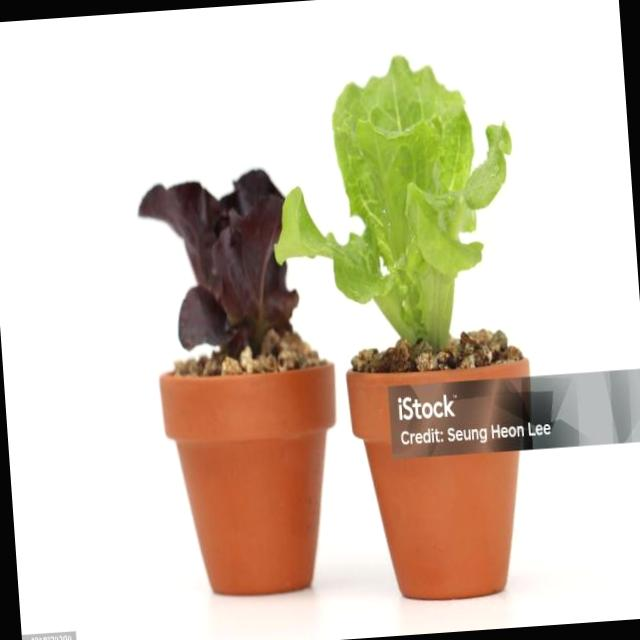Lettuce-Not-Ready-to-Harvest: (272, 55, 513, 352), (136, 169, 305, 359)
